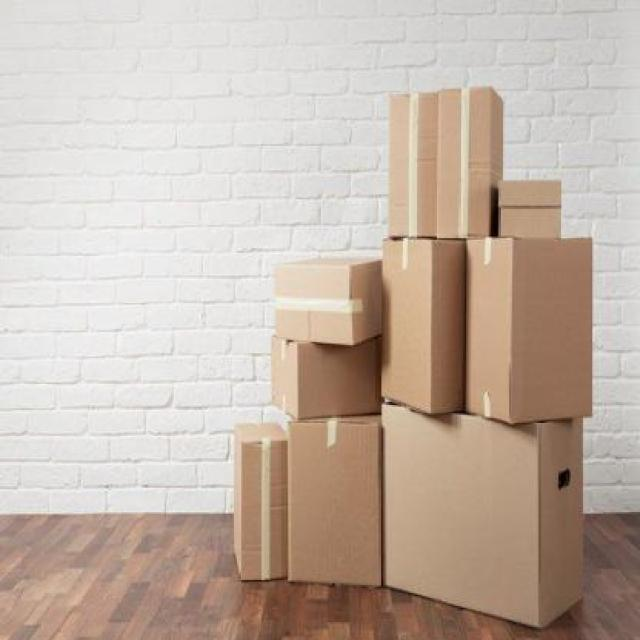box: (374, 393, 592, 625), (462, 234, 604, 435), (380, 76, 509, 246), (280, 416, 388, 613), (374, 224, 466, 428), (265, 324, 384, 426), (274, 255, 374, 351), (232, 419, 286, 589), (492, 167, 580, 243)
